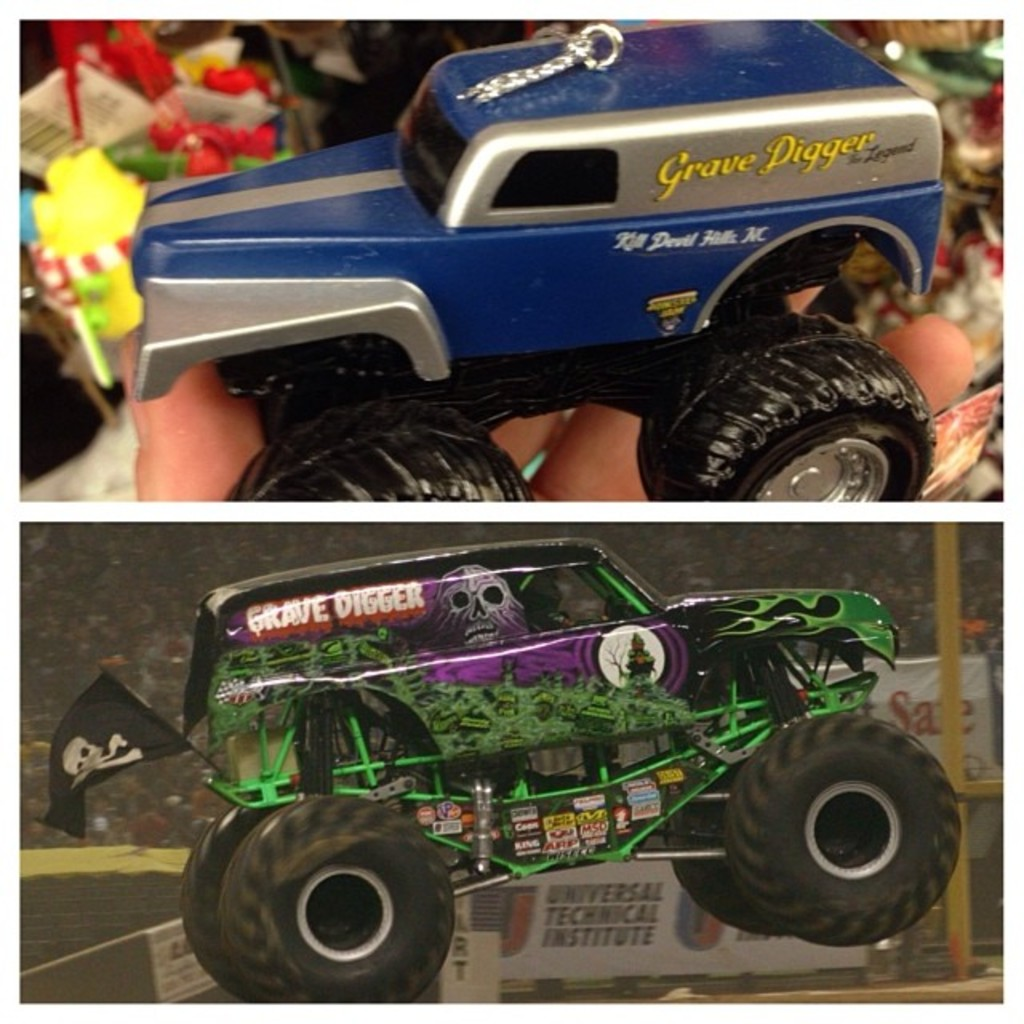Car: (134, 17, 937, 504), (180, 539, 961, 1001)
